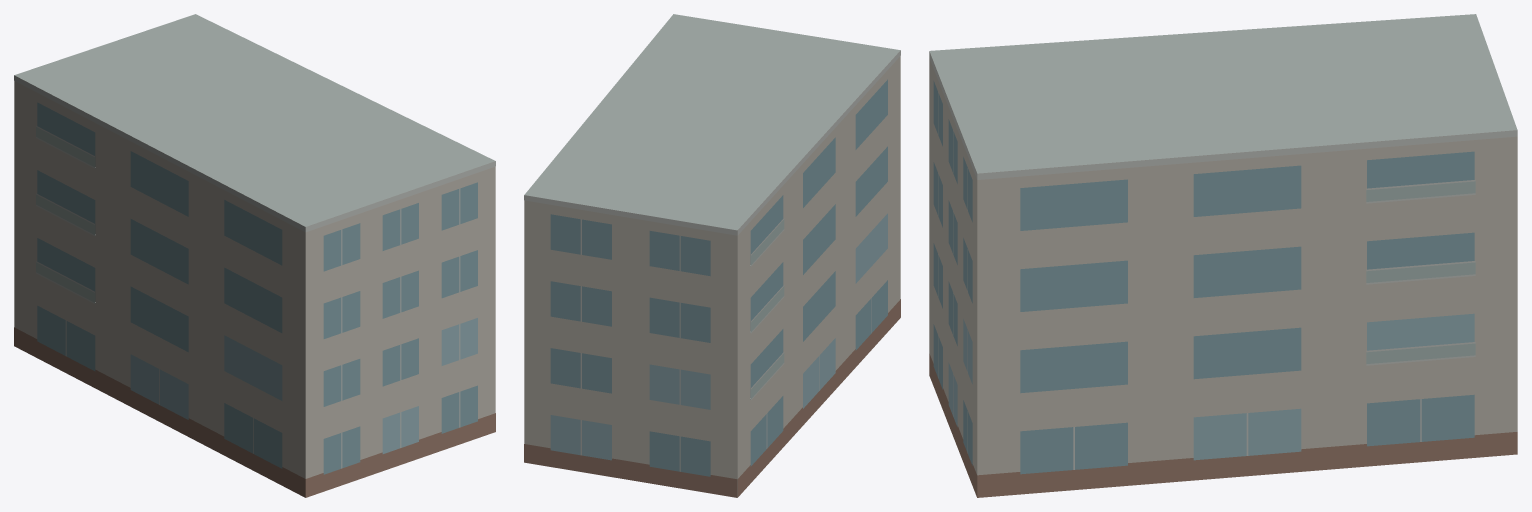
The model's file is residential-d2bc1784-da90-4665-8a22-c4a65bfd2b36.glb.
3 renders of one model, left to right at view 1: azimuth 30°, elevation 25°; view 2: azimuth 150°, elevation 25°; view 3: azimuth 270°, elevation 25°, orthographic. The views are drawn at different scales.
Visible parts, largest first — view 1: residential-d2bc1784-da90-4665-8a22-c4a65bfd2b36.tmp; view 2: residential-d2bc1784-da90-4665-8a22-c4a65bfd2b36.tmp; view 3: residential-d2bc1784-da90-4665-8a22-c4a65bfd2b36.tmp.
Part boxes in pixels (x1,y1,x2,y2): residential-d2bc1784-da90-4665-8a22-c4a65bfd2b36.tmp: [14, 14, 495, 497]; residential-d2bc1784-da90-4665-8a22-c4a65bfd2b36.tmp: [524, 14, 900, 497]; residential-d2bc1784-da90-4665-8a22-c4a65bfd2b36.tmp: [929, 14, 1517, 497].
Bounding box in the file's own units: 12.89 × 12.2 × 20.07.
